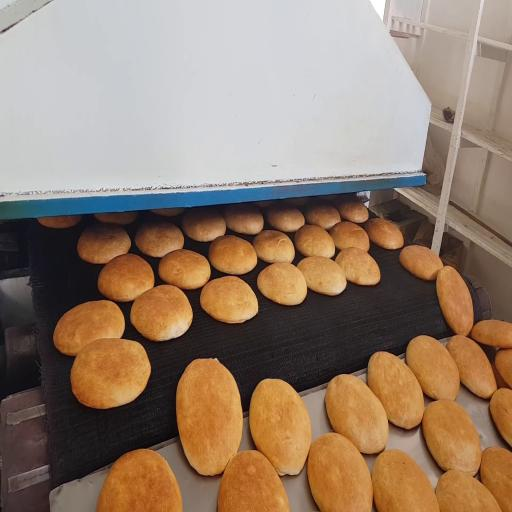bread: (176, 359, 242, 475), (249, 379, 311, 475), (71, 339, 151, 409), (96, 449, 182, 511), (308, 433, 372, 511), (325, 375, 388, 453), (422, 400, 481, 475), (218, 450, 289, 511), (367, 352, 423, 429), (372, 449, 439, 511), (54, 301, 125, 356), (131, 285, 192, 341), (406, 336, 459, 400), (447, 335, 497, 398), (200, 276, 258, 323), (436, 470, 501, 511), (98, 254, 154, 301), (436, 266, 473, 336), (78, 224, 131, 264), (257, 263, 307, 305), (159, 249, 210, 289), (480, 447, 511, 511), (297, 256, 346, 295), (209, 236, 257, 274), (135, 222, 184, 257), (336, 247, 380, 285), (400, 246, 443, 281), (182, 208, 226, 241), (253, 230, 294, 263), (295, 225, 335, 257), (490, 388, 511, 446), (330, 222, 369, 252), (224, 204, 263, 234), (365, 219, 403, 249), (471, 320, 511, 348), (267, 205, 305, 232), (305, 205, 340, 229), (338, 200, 368, 223), (495, 349, 511, 387), (94, 212, 137, 225), (38, 215, 81, 228), (491, 362, 509, 388), (151, 208, 184, 216), (285, 197, 310, 206), (254, 200, 280, 208)
